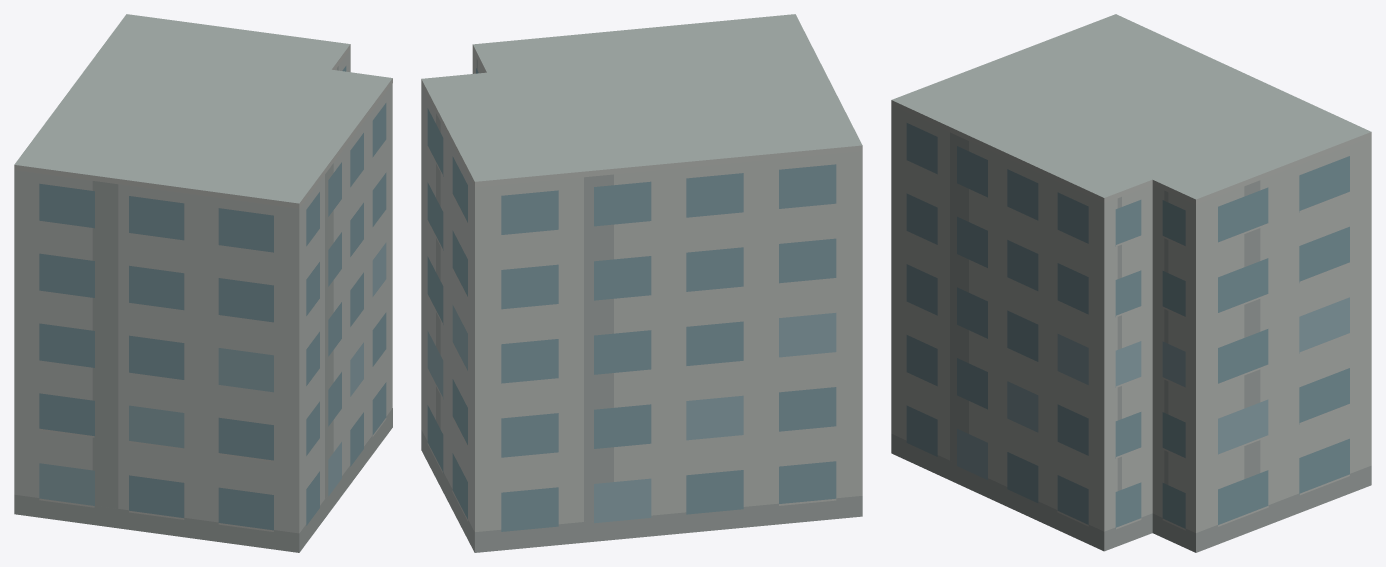
Rendered from survey-upis-32864644.glb.
3 renders of one model, left to right at view 1: azimuth 30°, elevation 25°; view 2: azimuth 150°, elevation 25°; view 3: azimuth 270°, elevation 25°, orthographic. The views are drawn at different scales.
Parts seen in each view (by area): view 1: survey-upis-32864644.tmp; view 2: survey-upis-32864644.tmp; view 3: survey-upis-32864644.tmp.
Part boxes in pixels (box(x1,y1,x2,y2)): survey-upis-32864644.tmp: box(14, 14, 392, 552); survey-upis-32864644.tmp: box(421, 14, 862, 552); survey-upis-32864644.tmp: box(891, 14, 1371, 552).
Size of the model in its own units: 17.91 by 15.9 by 19.59.
